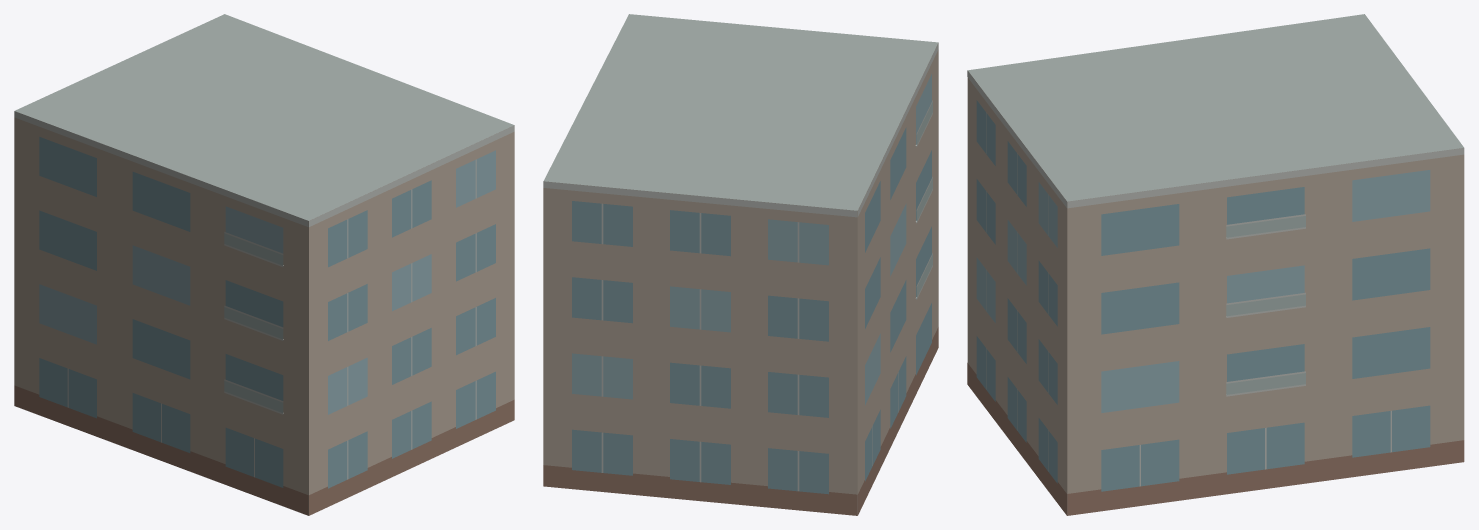
The model's file is survey-upis-32953318.glb.
The picture shows the model from 3 angles, left to right: view 1: azimuth 30°, elevation 25°; view 2: azimuth 150°, elevation 25°; view 3: azimuth 270°, elevation 25°; orthographic projection. The views are drawn at different scales.
Visible parts, largest first — view 1: survey-upis-32953318.tmp; view 2: survey-upis-32953318.tmp; view 3: survey-upis-32953318.tmp.
Part boxes in pixels (x1,y1,x2,y2): survey-upis-32953318.tmp: (14, 14, 514, 515); survey-upis-32953318.tmp: (543, 14, 938, 515); survey-upis-32953318.tmp: (967, 14, 1464, 515).
Bounding box in the file's own units: 14.47 × 11.3 × 16.2.
